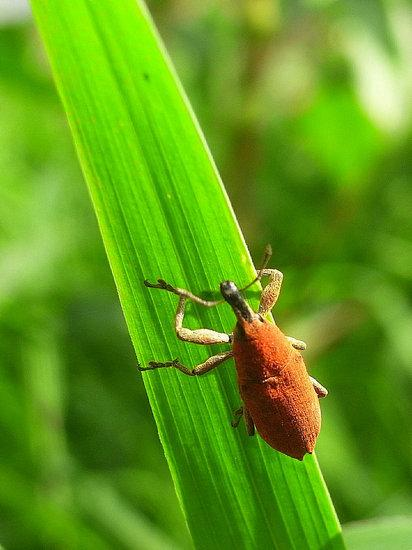Curculionidae: (136, 244, 329, 462)
